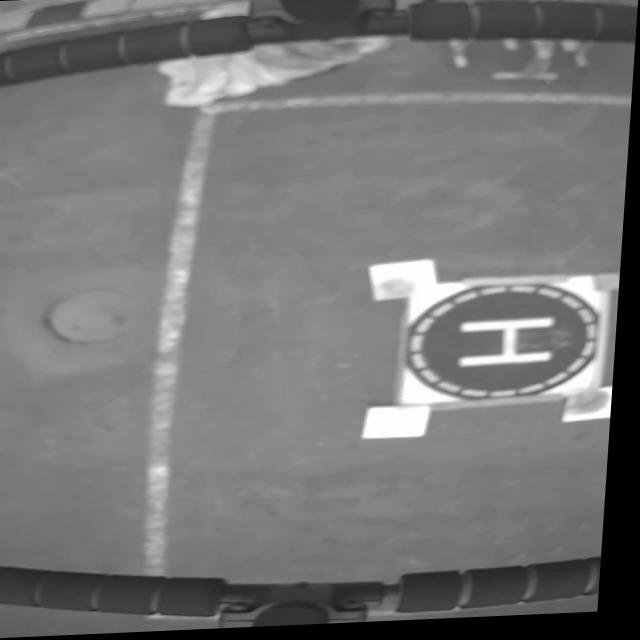Helipad: (459, 321, 559, 371)
